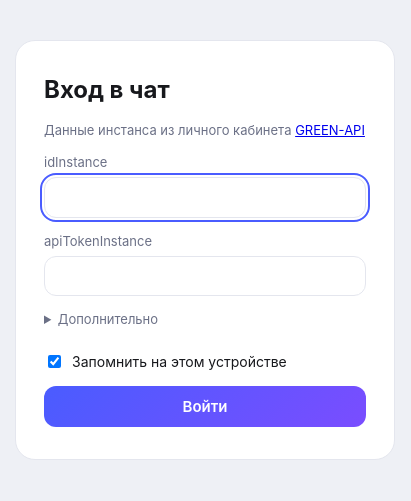
Scenario: чат › не пускает с неавторизованным инстансом
Type "41000" into the field labelled "idInstance" at (205, 197), box [44,177,366,218]
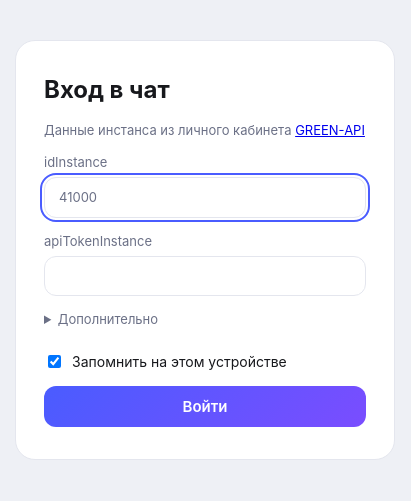
Type "secret" into the password field labelled "apiTokenInstance" at (205, 276), box [44,256,366,296]
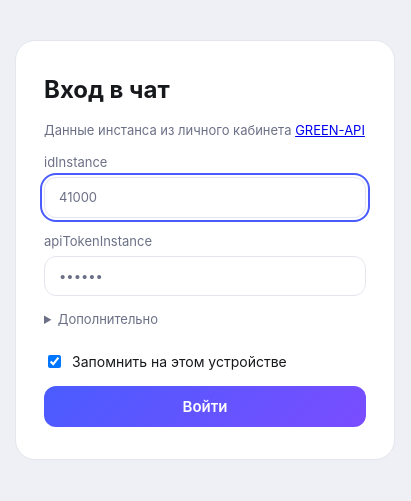
Click the button "Войти" at (205, 406), box [44,386,366,427]
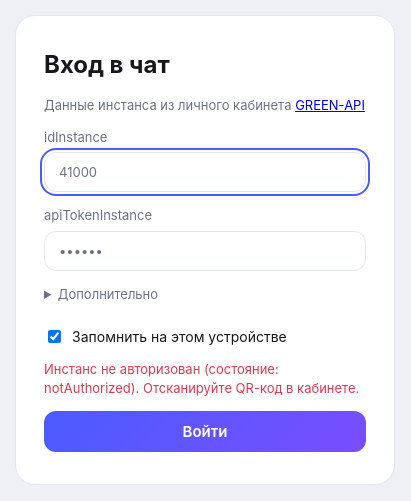
expect the message is shown: met, box [44,360,366,397]
expect the message shows "notAuthorized": met, box [44,362,359,396]
